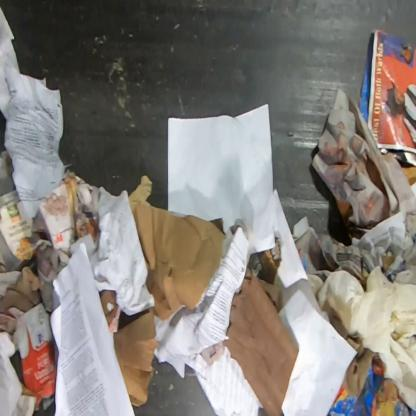cardboard: (114, 176, 226, 408), (222, 274, 299, 415), (7, 302, 57, 411)
rigid_plastic: (0, 190, 40, 272)
soft_plastic: (326, 359, 415, 415)
